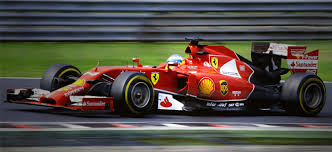FormulaOneCar: (4, 33, 329, 125)
